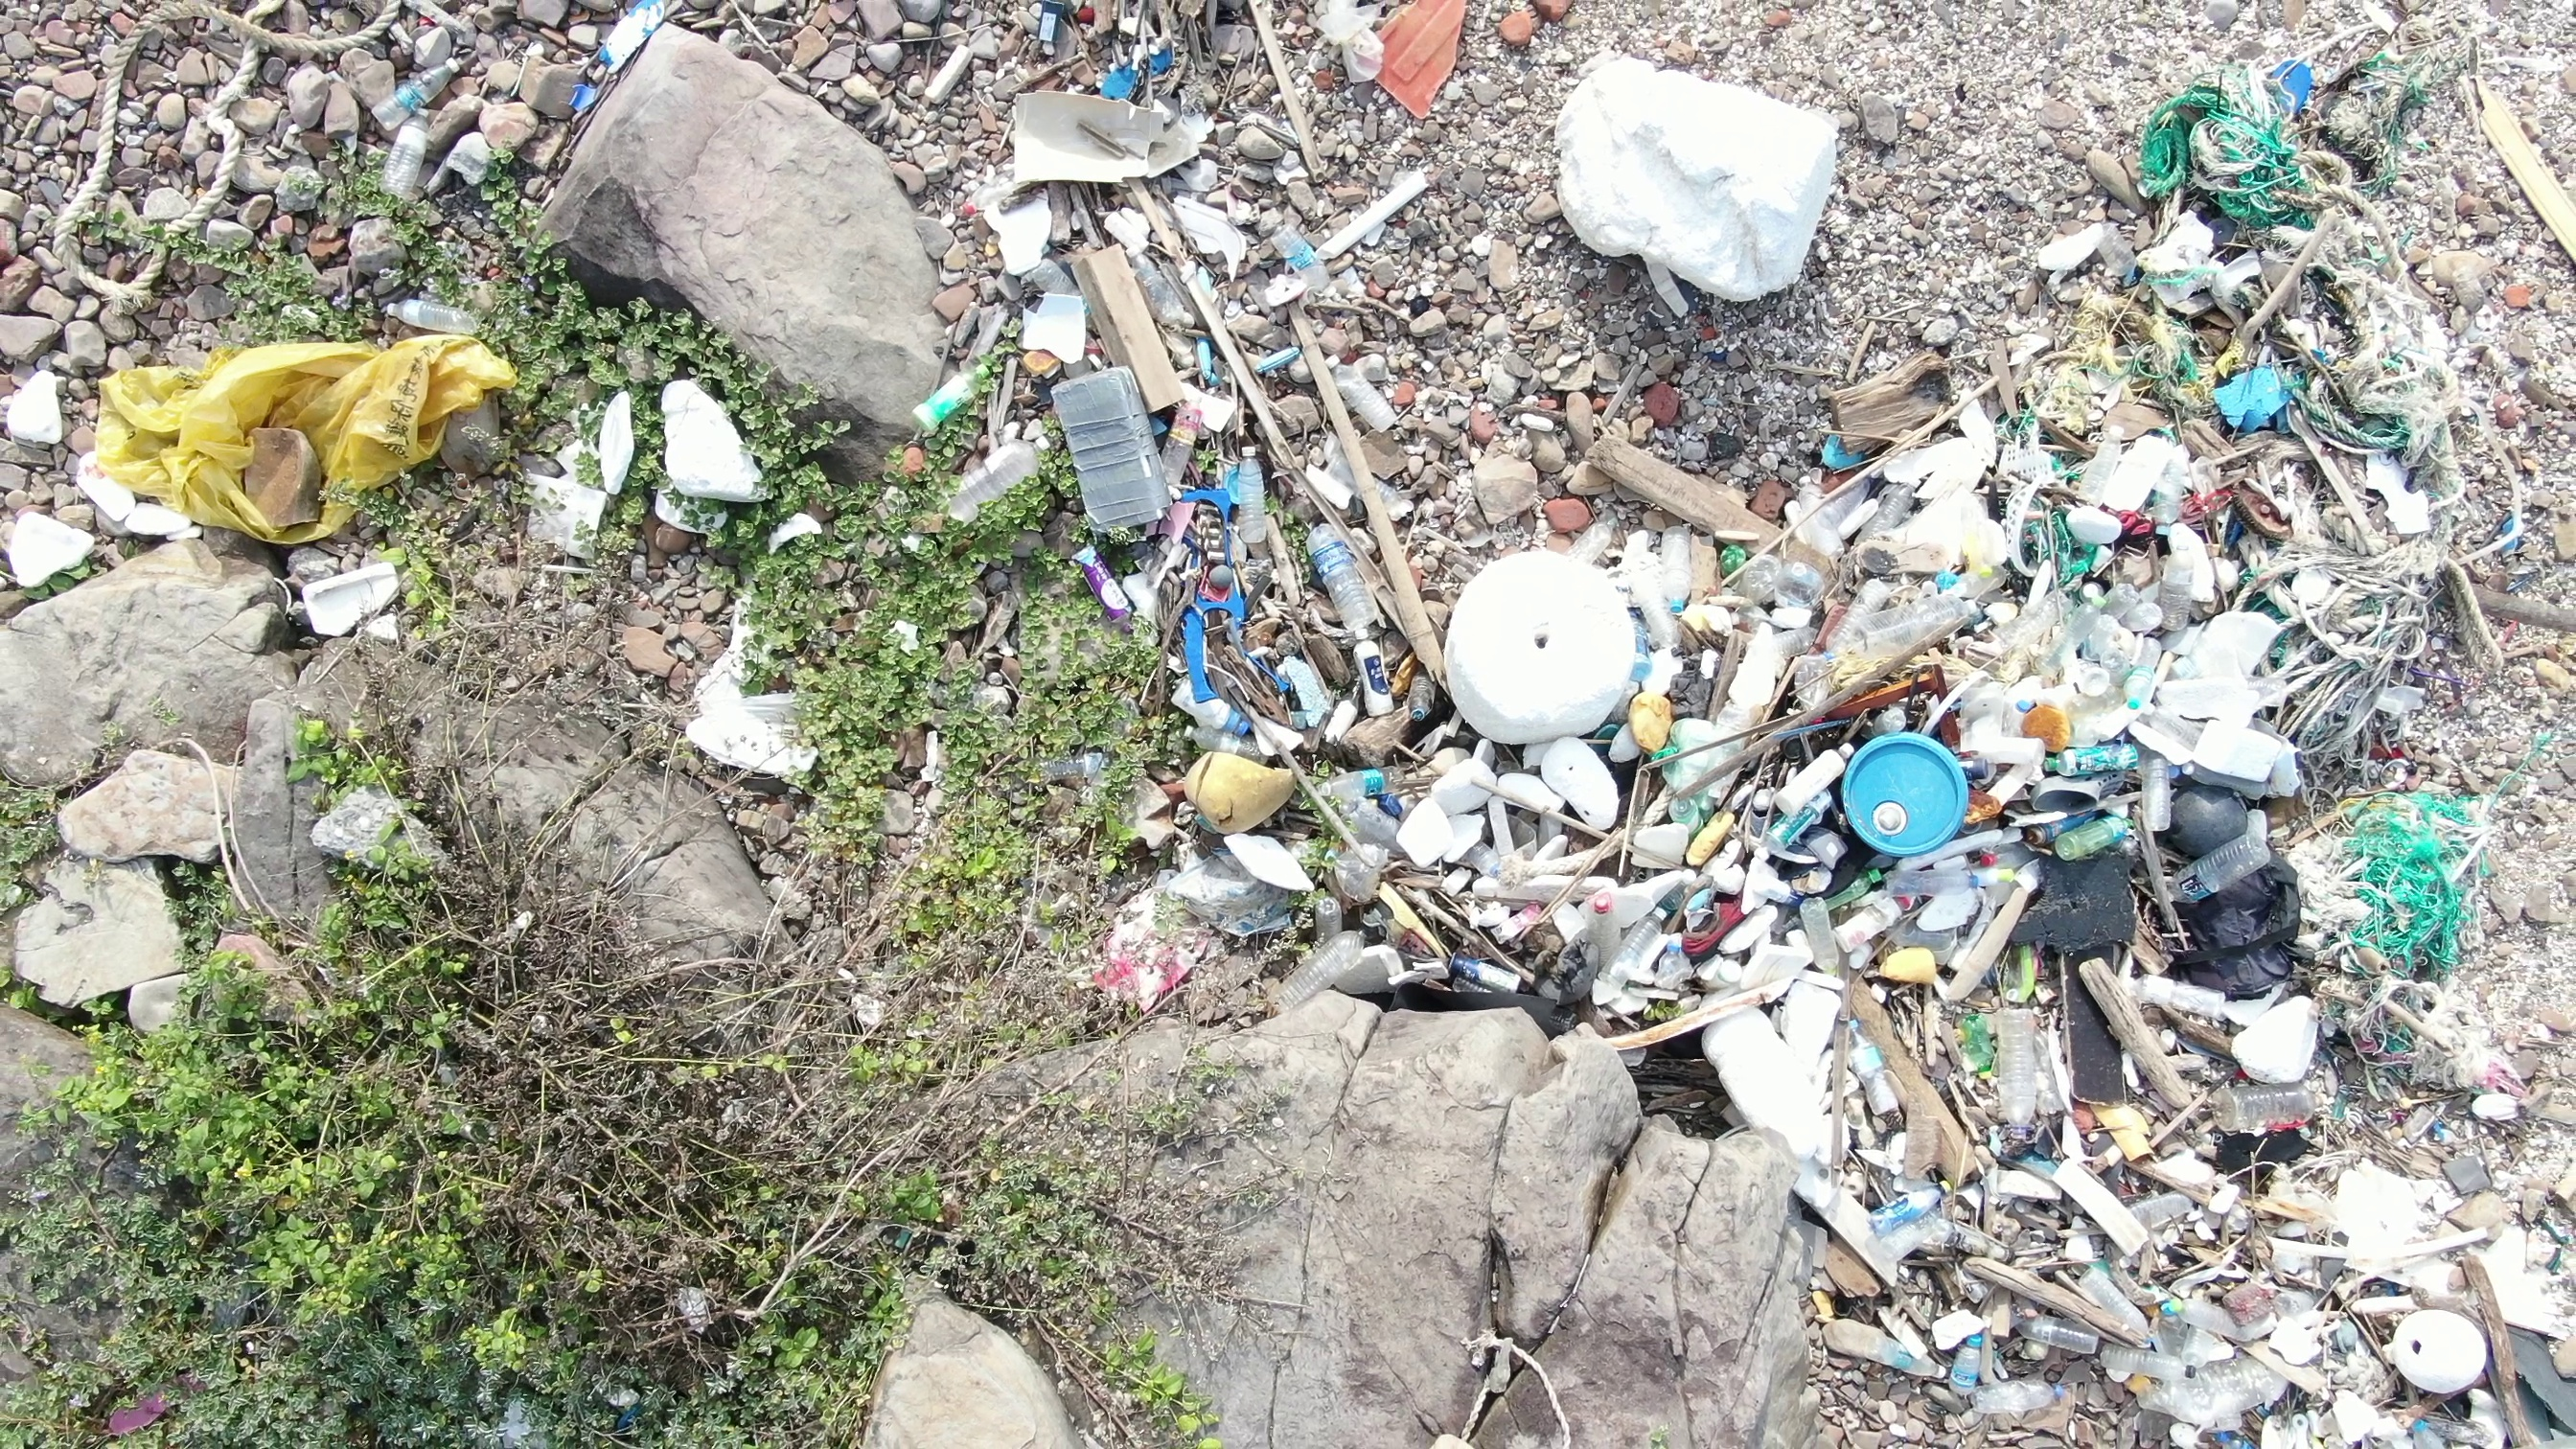bottle: (939, 430, 1056, 531), (1302, 510, 1385, 649), (1269, 920, 1380, 1014), (1318, 349, 1422, 444), (2160, 832, 2298, 902), (1983, 998, 2056, 1131), (1063, 536, 1143, 639), (363, 48, 465, 126), (2210, 1077, 2344, 1136), (1867, 1169, 1964, 1244), (913, 352, 994, 441), (1787, 892, 1849, 994), (1169, 671, 1253, 745), (1780, 738, 1872, 803), (1766, 775, 1840, 855), (1269, 216, 1338, 301), (2045, 807, 2144, 865), (382, 287, 492, 336), (1345, 628, 1398, 727), (2155, 541, 2203, 651), (386, 106, 439, 202), (1621, 890, 1667, 1000), (1999, 1304, 2093, 1357), (2036, 734, 2151, 777), (2102, 1352, 2206, 1394), (1810, 860, 1891, 913), (1660, 513, 1695, 619), (1309, 770, 1415, 803), (1890, 869, 2005, 899), (1237, 428, 1263, 534), (1948, 1320, 1983, 1399), (1403, 671, 1444, 740), (1976, 840, 2040, 883), (1955, 1007, 1989, 1086), (1660, 787, 1709, 839), (1591, 890, 1621, 971), (1309, 890, 1343, 941)
garbage: (1491, 62, 2558, 1449), (902, 2, 1543, 1065), (21, 2, 458, 322), (81, 333, 538, 550), (679, 510, 869, 801), (556, 2, 660, 149)
